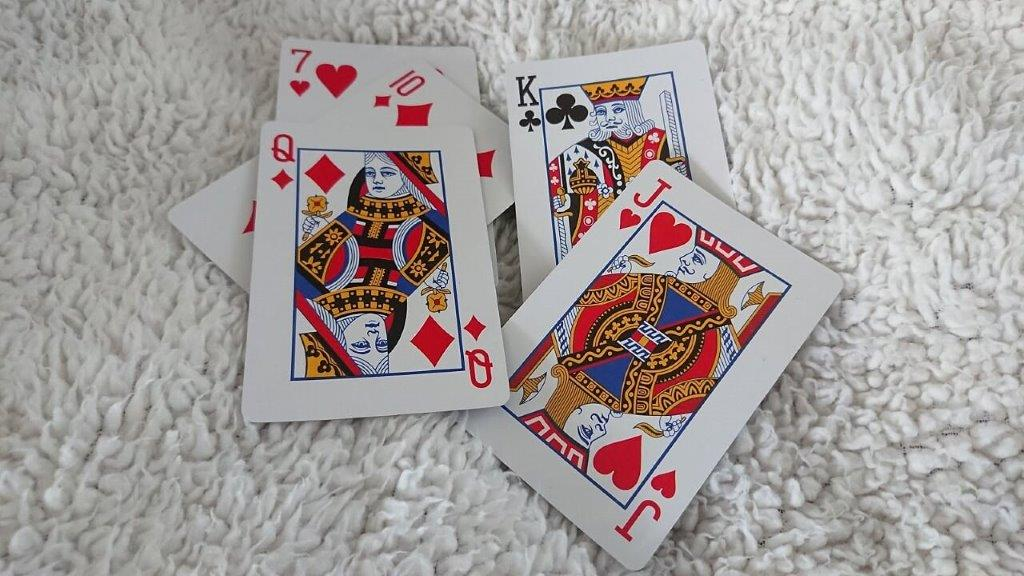10D: (370, 67, 428, 116)
7H: (283, 41, 322, 104)
JH: (614, 173, 675, 241)
KC: (509, 68, 551, 139)
QD: (262, 127, 303, 192)
